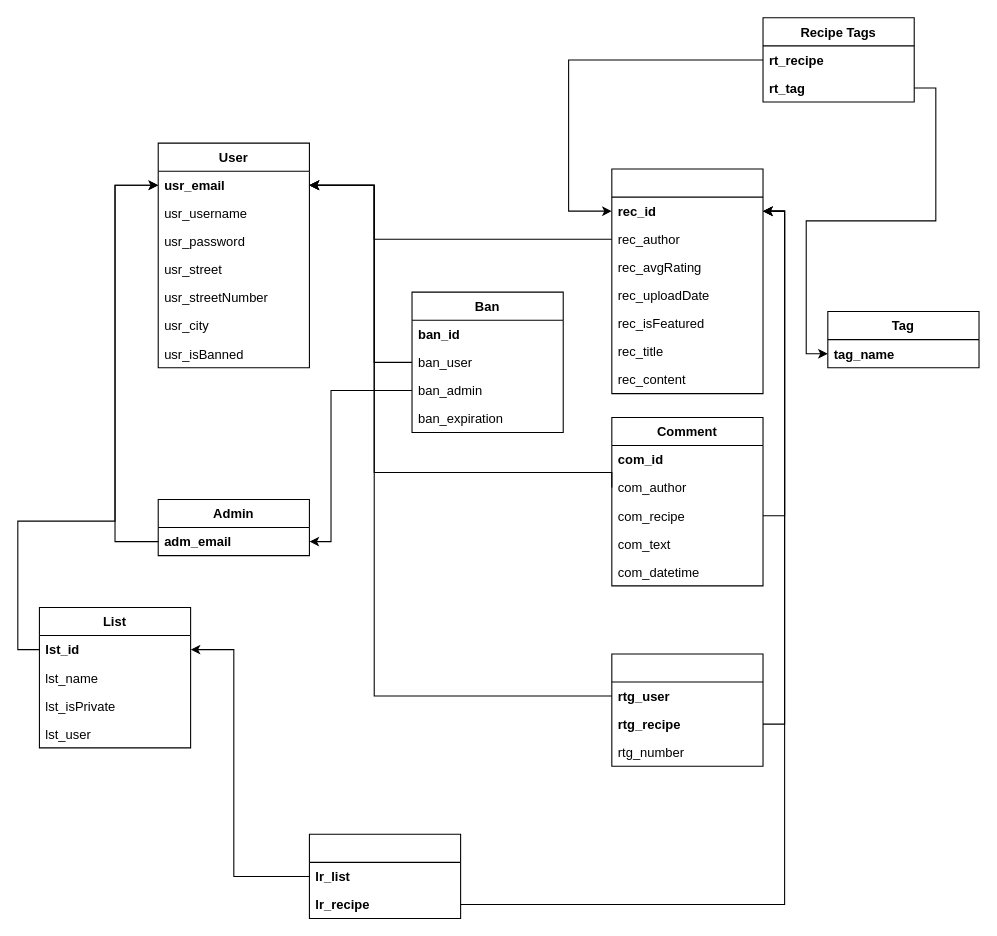
Image size: 997x936. Some labels were removed from this diagram. Each missing label, with the box of its shape:
List Recipes: (308, 833, 461, 919)
Ratings: (611, 653, 763, 766)
Recipe: (611, 168, 763, 394)
